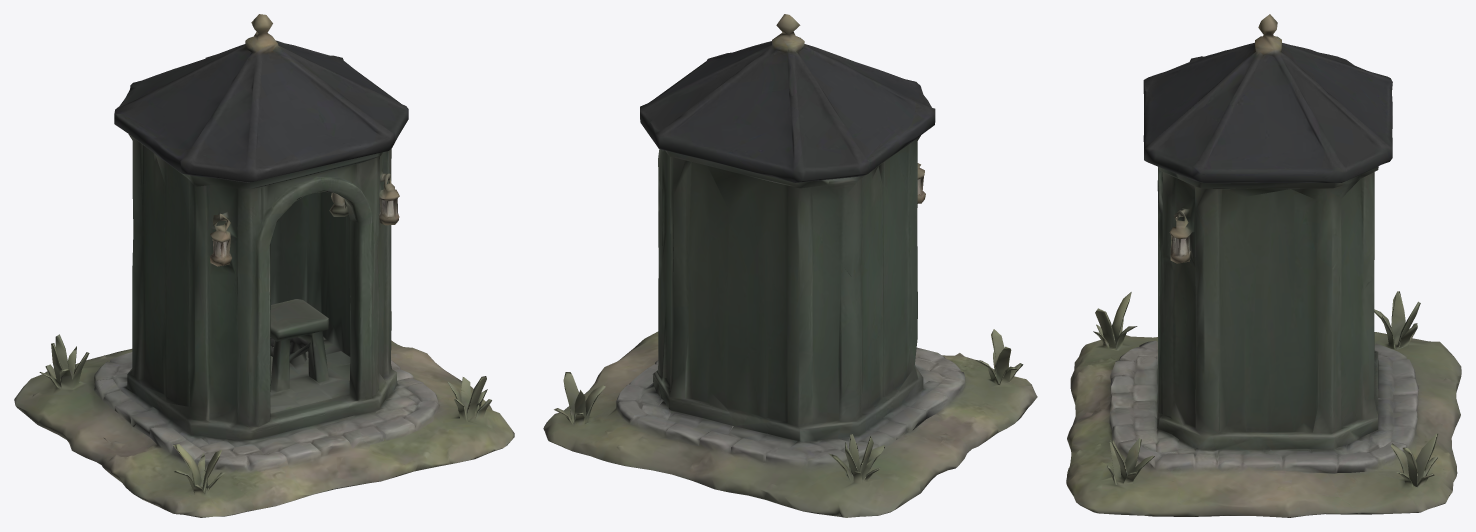
Rendered from palace_guard_box.glb.
The picture shows the model from 3 angles, left to right: view 1: azimuth 30°, elevation 25°; view 2: azimuth 150°, elevation 25°; view 3: azimuth 270°, elevation 25°; orthographic projection. The views are drawn at different scales.
Parts seen in each view (by area): view 1: tripo_node_07dbb7a8-7c32-4e96-8c89-7aa3f3b20d16; view 2: tripo_node_07dbb7a8-7c32-4e96-8c89-7aa3f3b20d16; view 3: tripo_node_07dbb7a8-7c32-4e96-8c89-7aa3f3b20d16.
Part boxes in pixels (x1,y1,x2,y2): tripo_node_07dbb7a8-7c32-4e96-8c89-7aa3f3b20d16: [14, 14, 514, 517]; tripo_node_07dbb7a8-7c32-4e96-8c89-7aa3f3b20d16: [543, 14, 1037, 517]; tripo_node_07dbb7a8-7c32-4e96-8c89-7aa3f3b20d16: [1066, 14, 1461, 517].
Bounding box in the file's own units: 0.9342 × 1 × 0.8661.
1 material, 1 textured.
